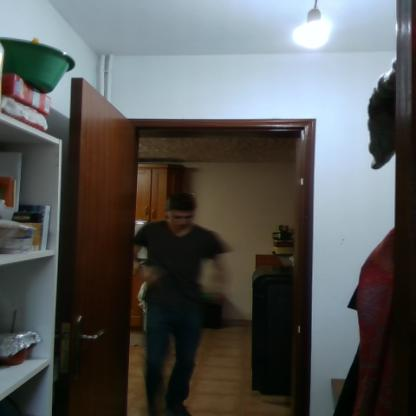open: (95, 93, 329, 416)
